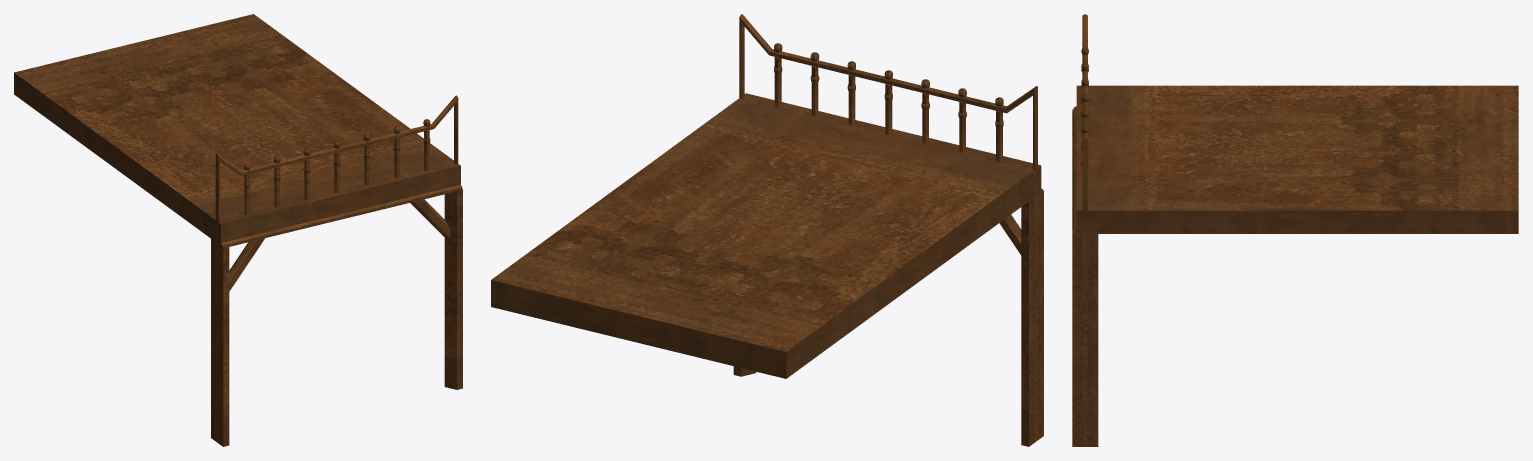
File: SM_Platform.fbx
3 renders of one model, left to right at view 1: azimuth 30°, elevation 25°; view 2: azimuth 150°, elevation 25°; view 3: azimuth 270°, elevation 25°, orthographic. The views are drawn at different scales.
Parts seen in each view (by area): view 1: SM_Platform; view 2: SM_Platform; view 3: SM_Platform.
Boxes of the visible parts, left/top/right/bottom form: SM_Platform: left=14, top=14, right=462, bottom=446; SM_Platform: left=491, top=14, right=1043, bottom=446; SM_Platform: left=1072, top=14, right=1518, bottom=446.
Size of the model in its own units: 400 by 460 by 605.
